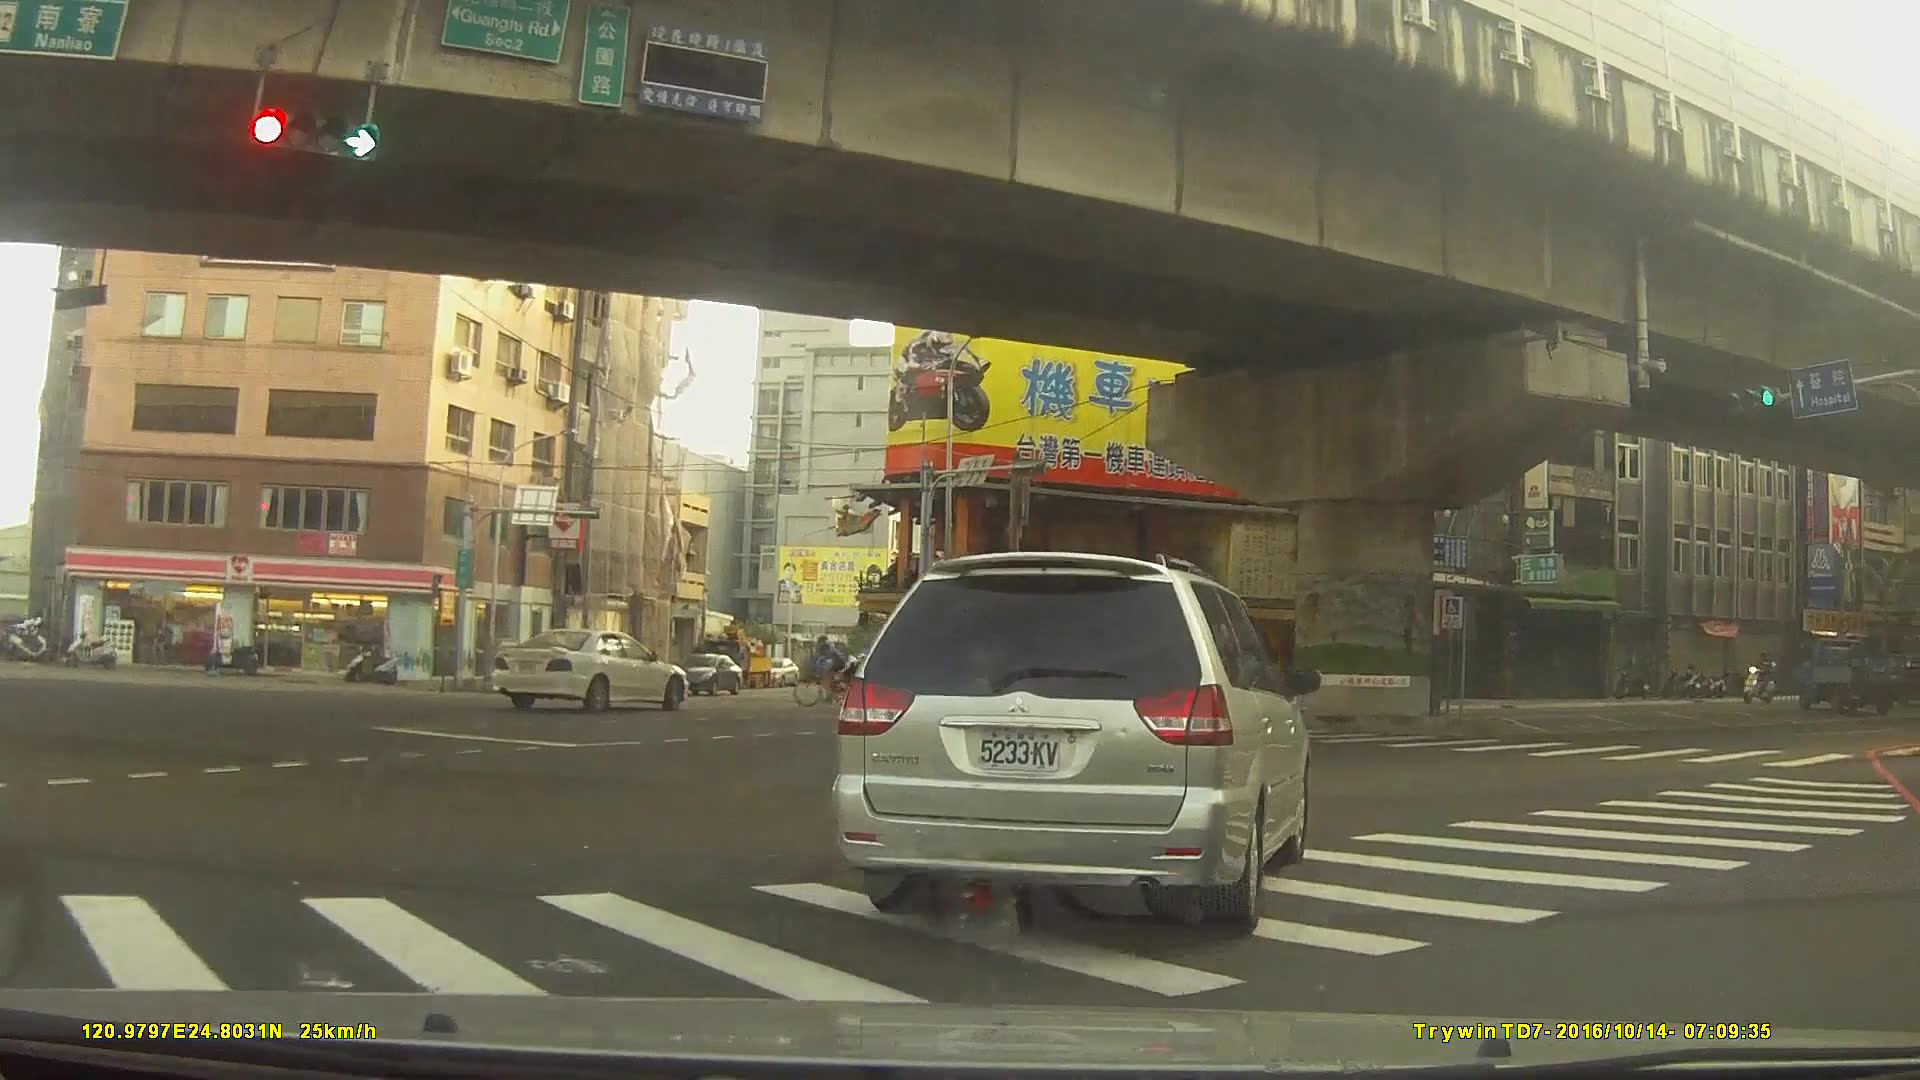rider: (792, 631, 869, 709), (1741, 649, 1779, 701)
vehicle: (828, 547, 1310, 936), (490, 624, 689, 715), (1793, 636, 1909, 717), (669, 650, 743, 692), (759, 657, 799, 688)
